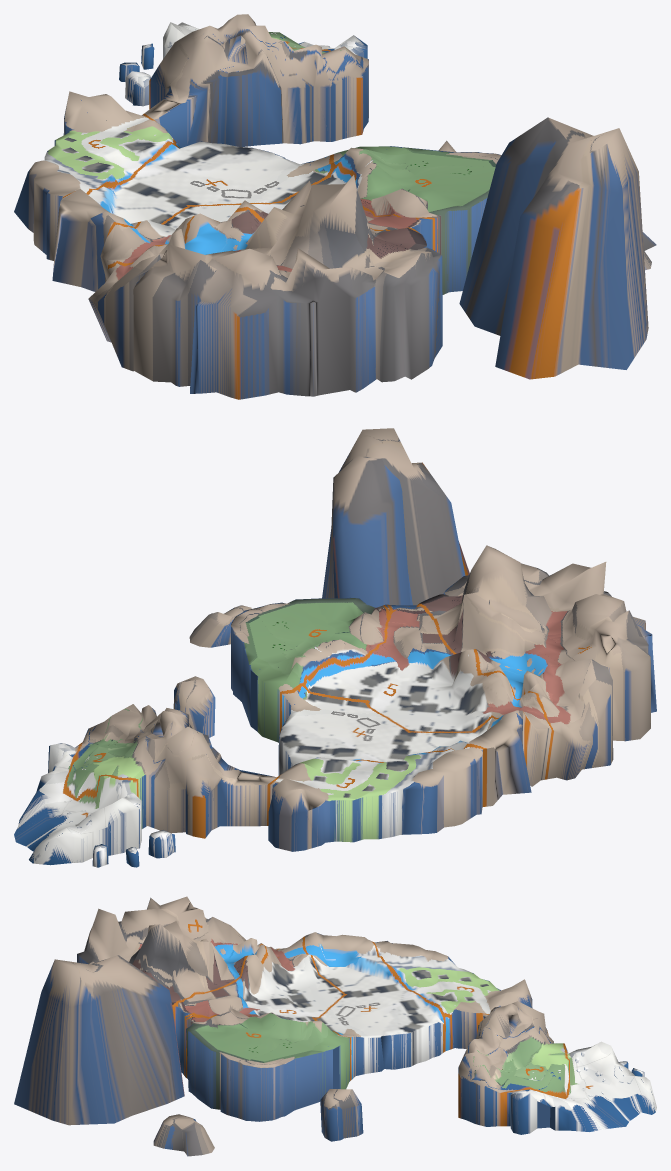
The model's file is WhiteboxingReduced.fbx.
The picture shows the model from 3 angles, top to bottom: view 1: azimuth 30°, elevation 25°; view 2: azimuth 150°, elevation 25°; view 3: azimuth 270°, elevation 25°; orthographic projection. The views are drawn at different scales.
Parts seen in each view (by area): view 1: mapReduced; view 2: mapReduced; view 3: mapReduced.
Part boxes in pixels (x1=…): mapReduced: x1=14, y1=14, x2=656, y2=399; mapReduced: x1=14, y1=428, x2=656, y2=867; mapReduced: x1=14, y1=896, x2=656, y2=1156.
Size of the model in its own units: 21472 by 8679 by 31543.
